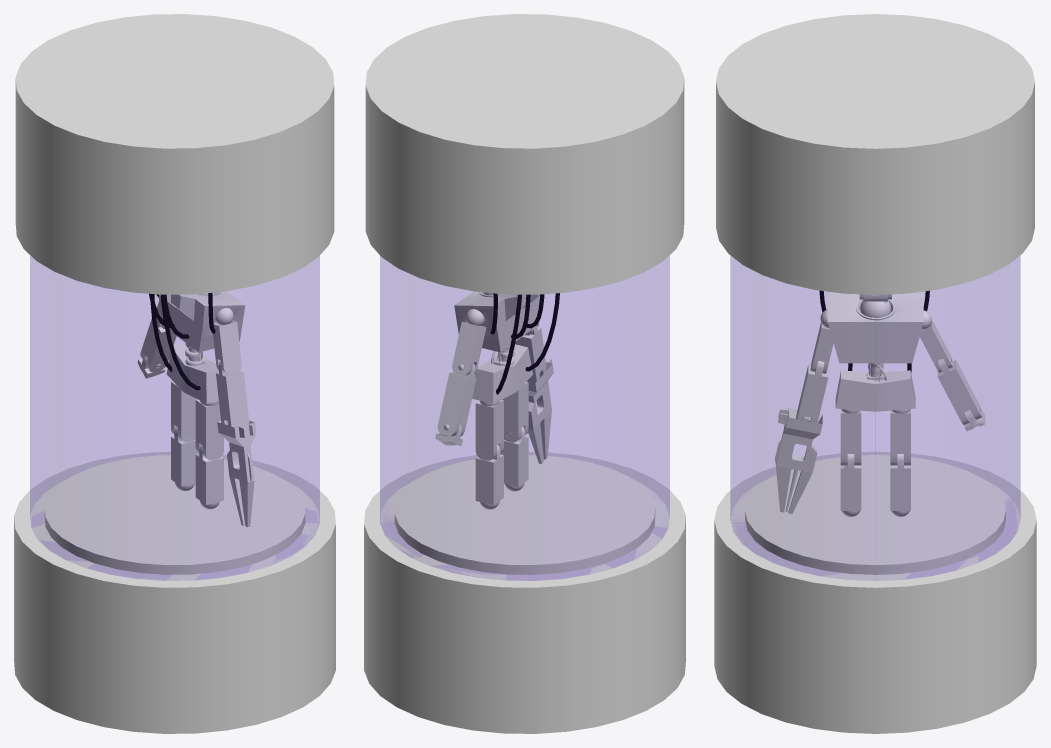
Rendered from RobotLantern.fbx.
3 renders of one model, left to right at view 1: azimuth 30°, elevation 25°; view 2: azimuth 150°, elevation 25°; view 3: azimuth 270°, elevation 25°, orthographic.
Parts seen in each view (by area): view 1: Cylinder.001, Cylinder.003, Cube.013, Küp.138, Cube.014, Cube.020, BézierCurve.007, Cube.005, Cube.006, Cube.019, Cube.008, Cube.009 (+1 smaller); view 2: Cylinder.001, Cylinder.003, Cube.013, Cube.014, Küp.138, Cube.016, BézierCurve.007, Cube.008, Cube.009, Cube.015, Cube.005, Cube.006 (+1 smaller); view 3: Cylinder.001, Cylinder.003, Cube.013, Küp.138, Cube.014, Cube.016, Cube.020, Cube.005, Cube.006, Cube.008, Cube.009, Cube.015 (+1 smaller).
Part boxes in pixels (x1=…): Cylinder.001: x1=14, y1=14, x2=335, y2=733; Cylinder.003: x1=30, y1=255, x2=319, y2=580; Cube.013: x1=158, y1=291, x2=245, y2=352; Küp.138: x1=217, y1=420, x2=256, y2=527; Cube.014: x1=166, y1=344, x2=218, y2=403; Cube.020: x1=216, y1=360, x2=249, y2=427; BézierCurve.007: x1=149, y1=293, x2=215, y2=390; Cube.005: x1=195, y1=399, x2=223, y2=460; Cube.006: x1=195, y1=445, x2=223, y2=504; Cube.019: x1=213, y1=320, x2=241, y2=374; Cube.008: x1=171, y1=381, x2=197, y2=442; Cube.009: x1=171, y1=426, x2=199, y2=486; Cylinder.001: x1=364, y1=14, x2=685, y2=733; Cylinder.003: x1=380, y1=255, x2=669, y2=580; Cube.013: x1=454, y1=291, x2=540, y2=352; Cube.014: x1=472, y1=344, x2=532, y2=403; Küp.138: x1=526, y1=358, x2=553, y2=464; Cube.016: x1=437, y1=363, x2=476, y2=436; BézierCurve.007: x1=490, y1=293, x2=559, y2=394; Cube.008: x1=475, y1=399, x2=503, y2=460; Cube.009: x1=475, y1=445, x2=503, y2=505; Cube.015: x1=452, y1=322, x2=486, y2=375; Cube.005: x1=502, y1=381, x2=528, y2=442; Cube.006: x1=500, y1=427, x2=528, y2=486; Cylinder.001: x1=714, y1=14, x2=1036, y2=733; Cylinder.003: x1=730, y1=256, x2=1020, y2=580; Cube.013: x1=827, y1=293, x2=923, y2=363; Küp.138: x1=774, y1=407, x2=822, y2=513; Cube.014: x1=835, y1=370, x2=915, y2=411; Cube.016: x1=937, y1=358, x2=982, y2=424; Cube.020: x1=795, y1=361, x2=828, y2=422; Cube.005: x1=840, y1=409, x2=861, y2=465; Cube.006: x1=840, y1=454, x2=861, y2=510; Cube.008: x1=890, y1=409, x2=910, y2=465; Cube.009: x1=890, y1=454, x2=910, y2=510; Cube.015: x1=919, y1=319, x2=953, y2=372.
Bounding box in the file's own units: 300 × 600 × 300.
